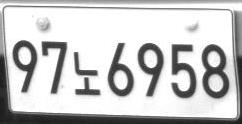5: (171, 43, 197, 99)
6: (107, 43, 134, 97)
7: (41, 41, 68, 93)
8: (200, 43, 229, 99)
9: (137, 42, 164, 97), (12, 39, 37, 93)
노: (73, 51, 100, 95)
